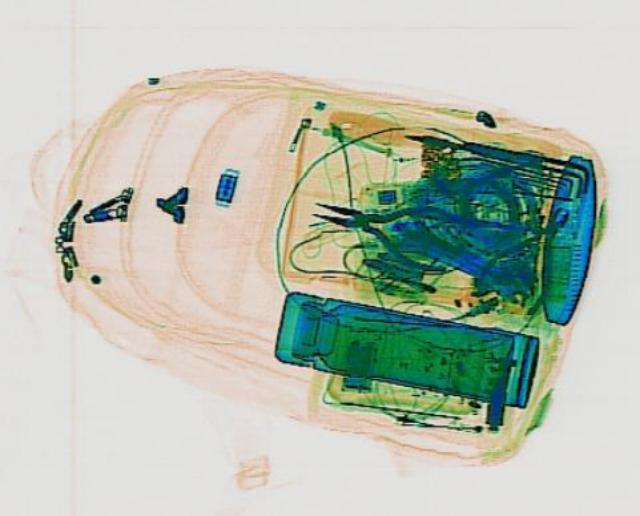Pliers: (296, 176, 468, 272)
